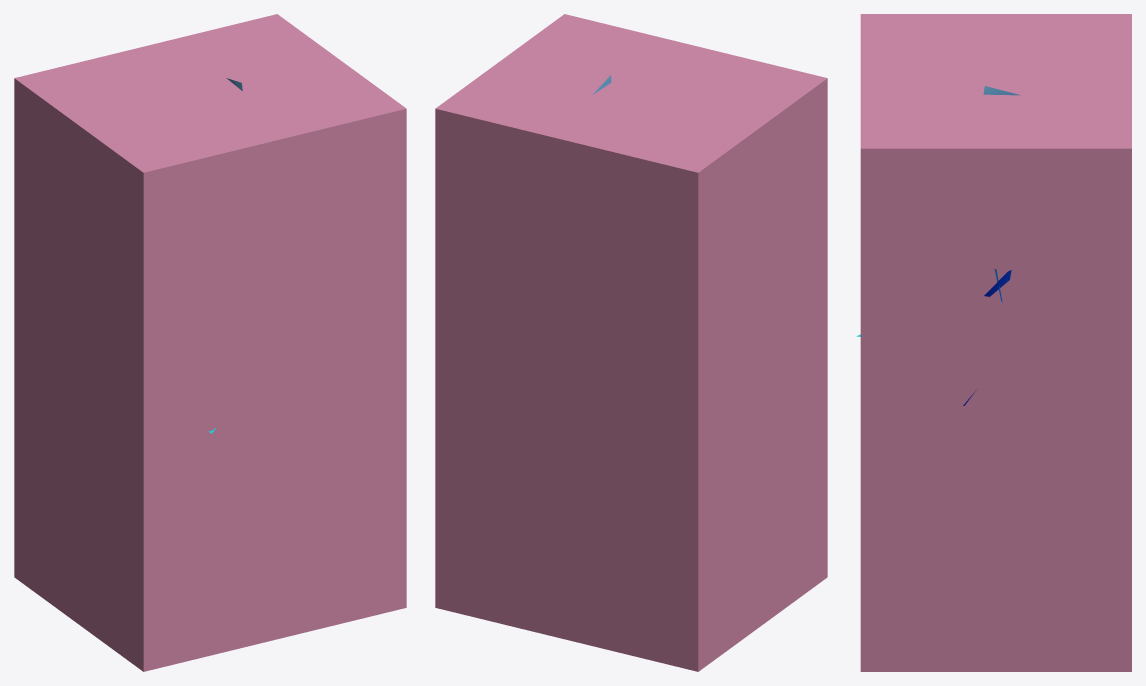
The model's file is tree_aspen_large_b.dae.
The picture shows the model from 3 angles, left to right: view 1: azimuth 30°, elevation 25°; view 2: azimuth 150°, elevation 25°; view 3: azimuth 270°, elevation 25°; orthographic projection. The views are drawn at different scales.
Parts seen in each view (by area): view 1: Untitled; view 2: Untitled; view 3: Untitled, tree_oak_bush_a220.
Boxes of the visible parts, x1=… form: Untitled: x1=14, y1=14, x2=406, y2=671; Untitled: x1=435, y1=14, x2=827, y2=671; Untitled: x1=860, y1=14, x2=1131, y2=671; tree_oak_bush_a220: x1=963, y1=86, x2=1020, y2=405.
Bounding box in the file's own units: 6.22 × 5.23 × 11.2.
